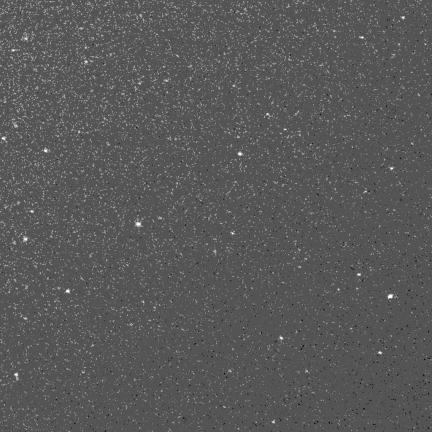blob: (135, 222, 141, 227), (23, 237, 28, 242), (401, 16, 406, 20), (388, 295, 393, 299), (44, 148, 48, 153), (357, 273, 362, 277), (238, 152, 242, 156), (279, 336, 283, 340), (66, 289, 70, 293), (390, 167, 394, 170), (2, 137, 6, 140), (230, 232, 234, 235), (378, 351, 382, 354), (30, 210, 34, 213), (360, 36, 364, 39)
